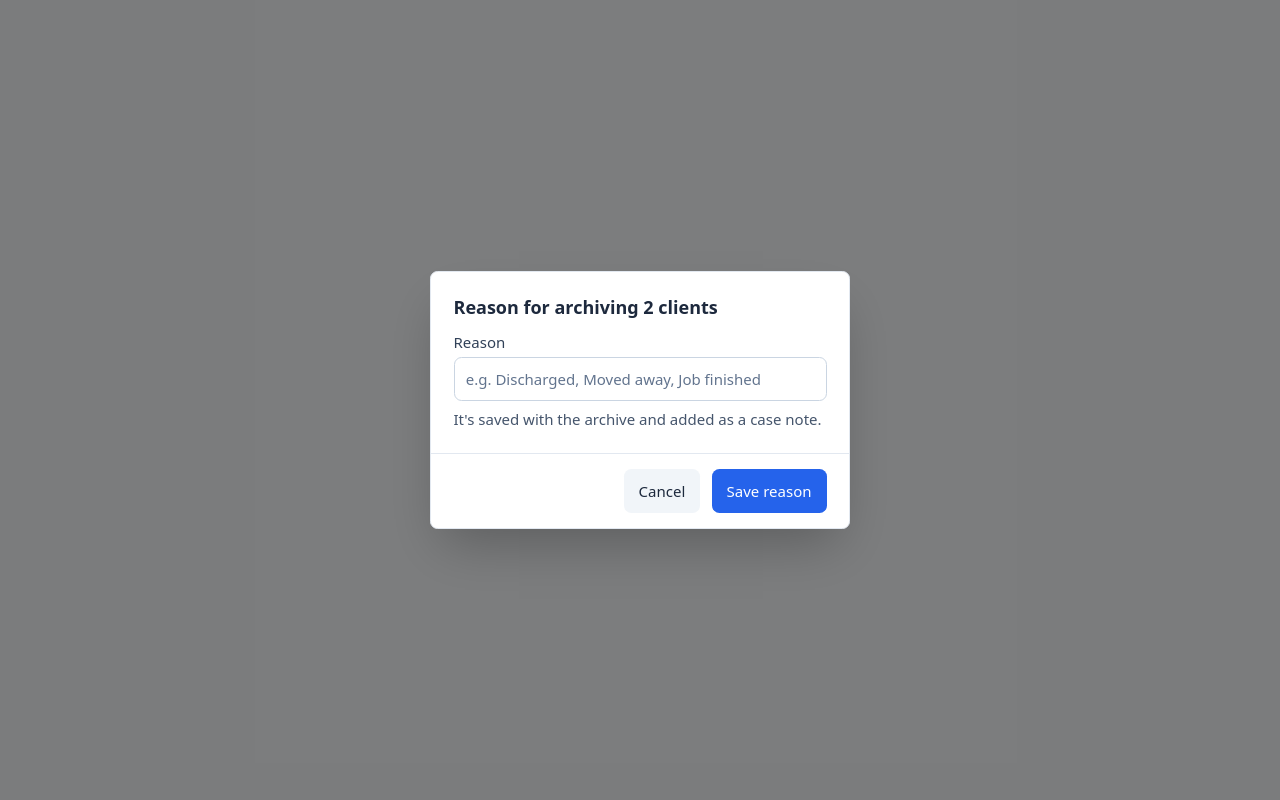
ArchiveReasonDialog › a blank reason asks for one instead of saving
The width and height of the screenshot is (1280, 800).
Click the button "Save reason". click: (769, 491)
box: [712,469,826,513]
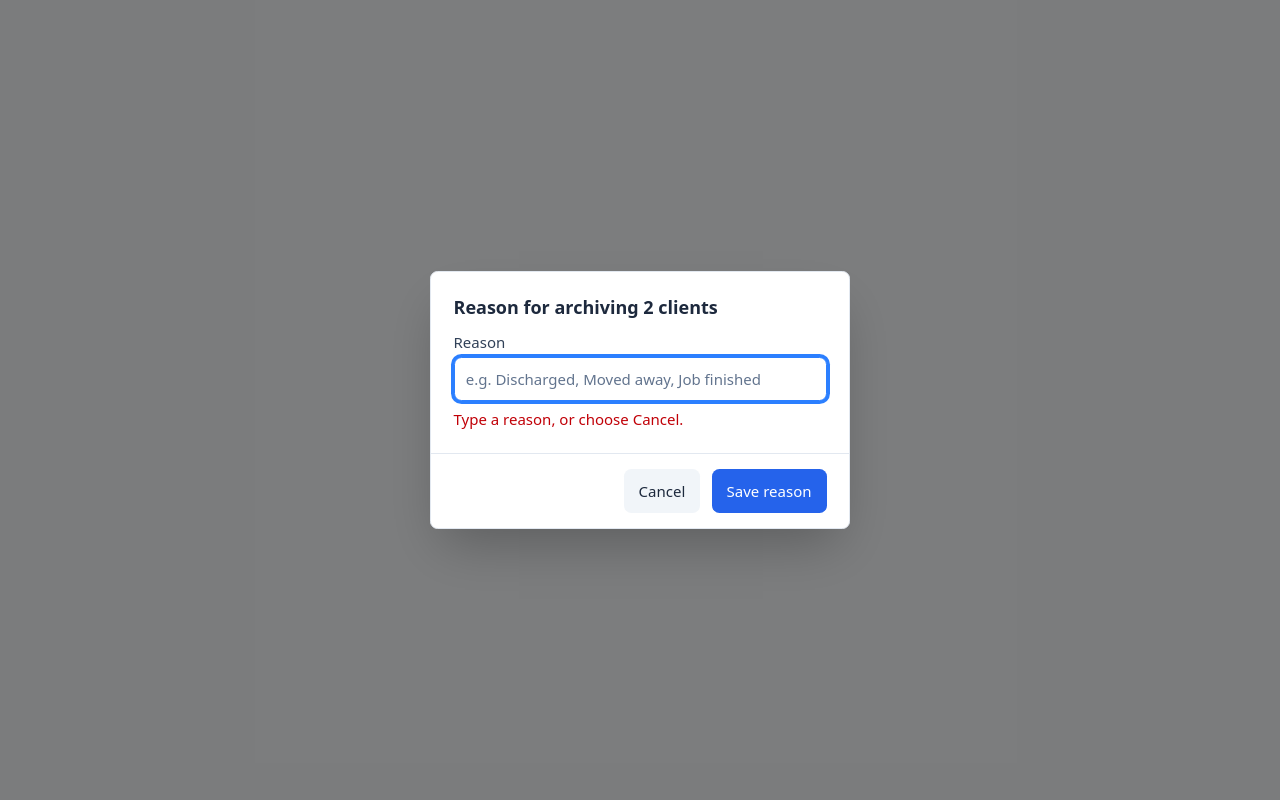
Expected: the message reads "Type a reason, or choose Cancel.", [454,409,683,429]
